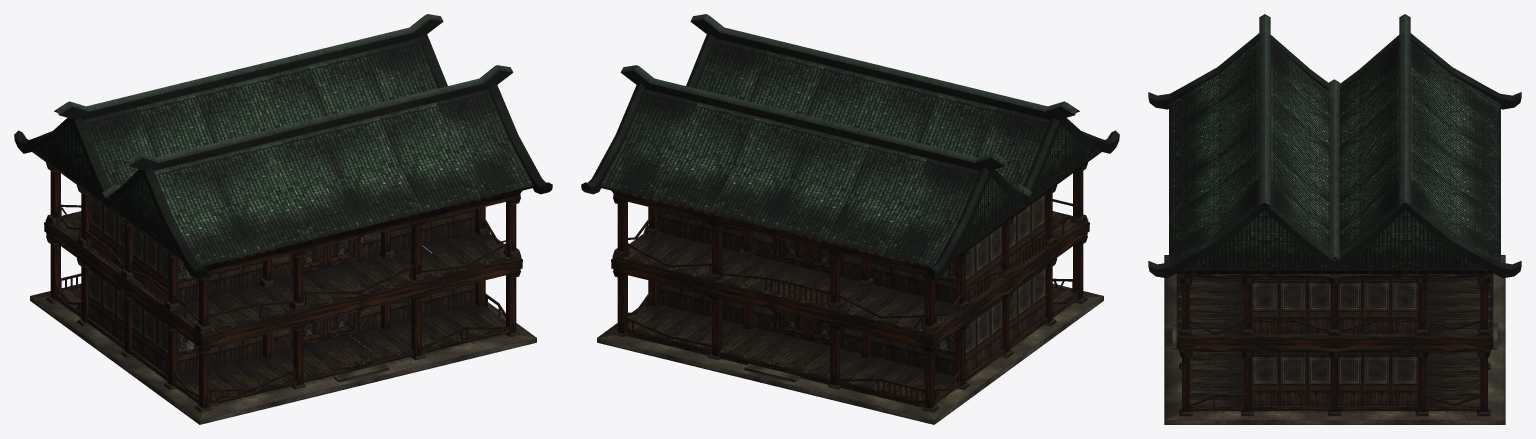
Rendered from c1-033-guesthouse-01_01.fbx.
The picture shows the model from 3 angles, left to right: view 1: azimuth 30°, elevation 25°; view 2: azimuth 150°, elevation 25°; view 3: azimuth 270°, elevation 25°; orthographic projection.
Parts seen in each view (by area): view 1: c1-033-guesthouse-01; view 2: c1-033-guesthouse-01; view 3: c1-033-guesthouse-01.
Boxes of the visible parts, <box> form: c1-033-guesthouse-01: <box>14,14,552,424</box>; c1-033-guesthouse-01: <box>581,14,1119,424</box>; c1-033-guesthouse-01: <box>1148,14,1521,424</box>.
Bounding box in the file's own units: 21.33 × 12.64 × 17.86.
